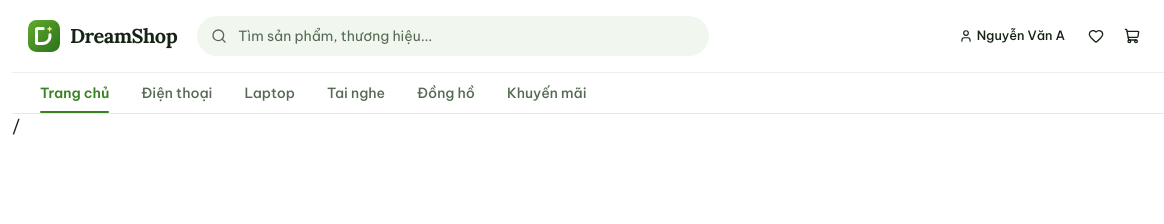
Test case: SiteHeader › opens dropdown menu and navigates to /profile when selecting 'Hồ sơ'
Click the button "Nguyễn Văn A". click: (1012, 36)
box: [948,22,1076,50]
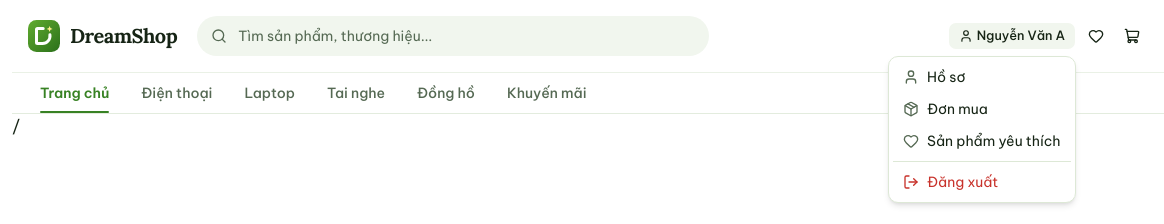
Check: the menu item "Đăng xuất" is shown, box [903,173,998,191]
Click the menu item "Hồ sơ". click: (934, 77)
box: [903,68,965,86]
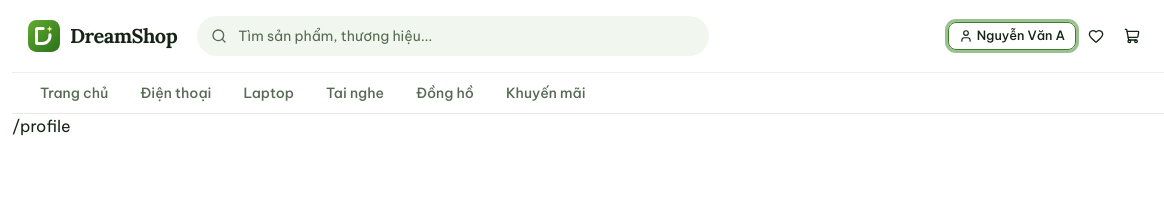
Check: the text with test id "current-location" reads "/profile", box [12,116,70,136]
